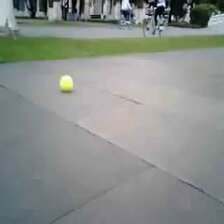tennis: (59, 75, 74, 91)
